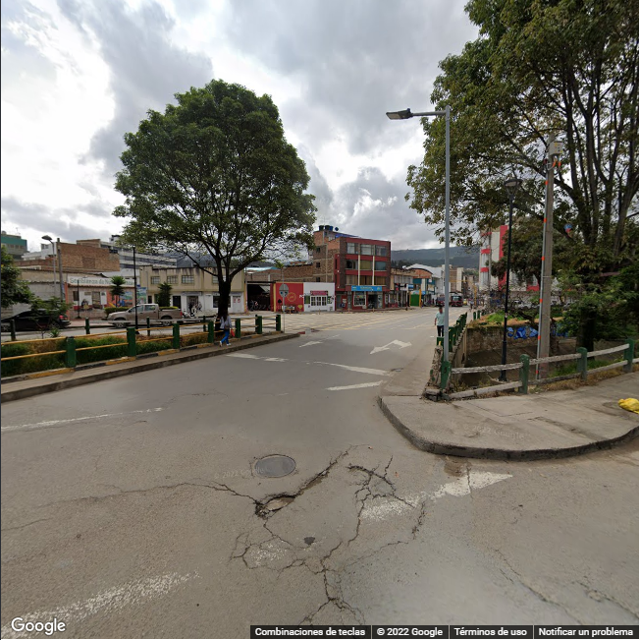D00: (38, 480, 186, 511), (293, 442, 354, 498), (216, 479, 257, 505), (351, 491, 368, 543)
D10: (518, 581, 582, 622), (315, 548, 336, 602), (587, 589, 634, 613), (387, 486, 416, 513), (463, 461, 474, 503)
